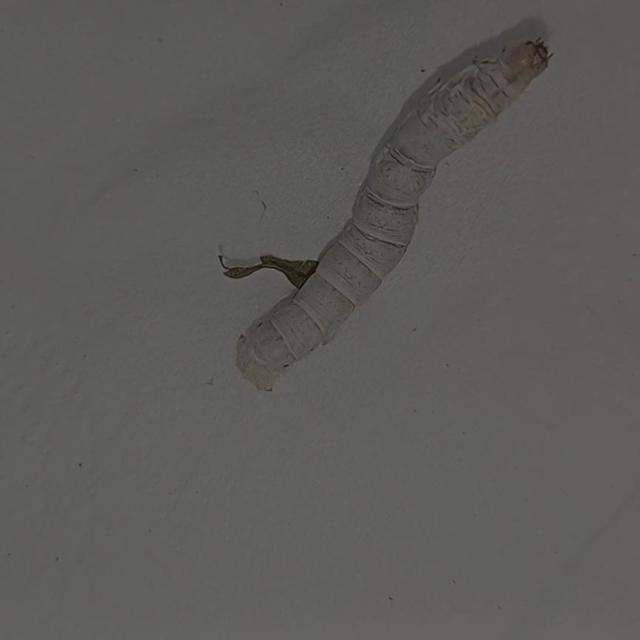Healthy: (204, 18, 576, 410)
